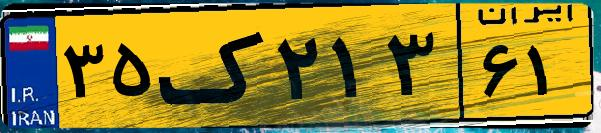1: (330, 28, 385, 110), (525, 38, 570, 115)
2: (270, 28, 330, 110)
3: (385, 28, 445, 110), (57, 26, 110, 100)
5: (110, 28, 158, 98)
6: (475, 38, 525, 113)
ک: (158, 12, 270, 120)
